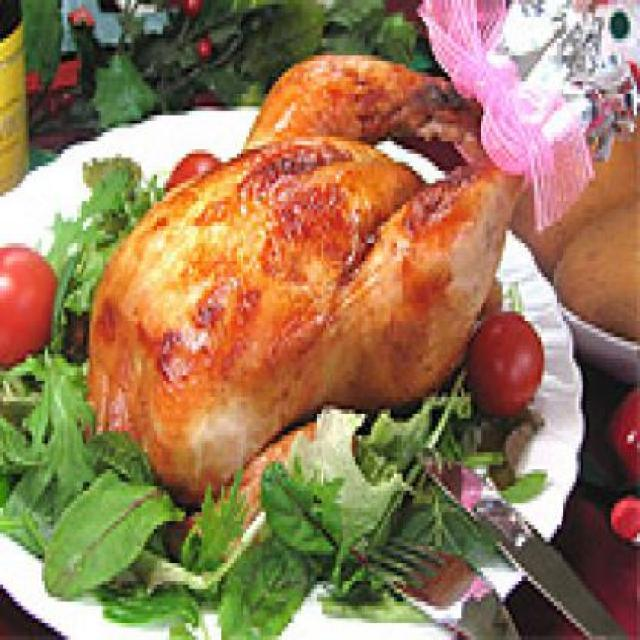Chicken roast: (77, 51, 510, 436)
Tomato: (2, 252, 55, 354), (486, 333, 548, 418)
